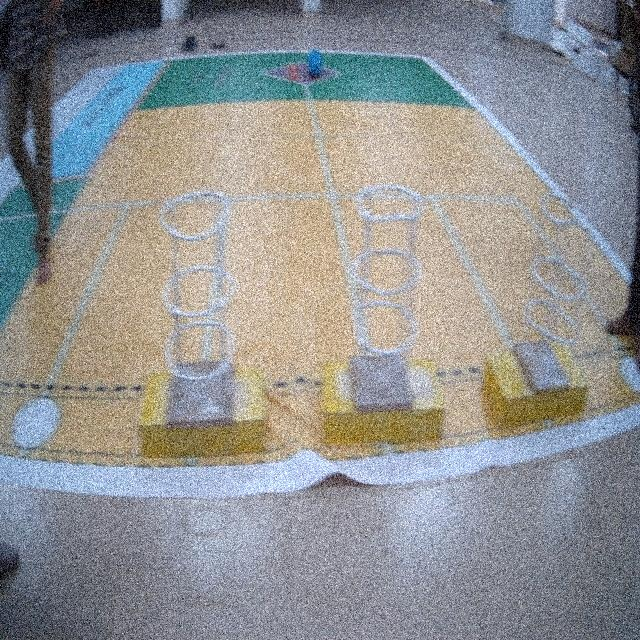silo: (150, 166, 258, 457), (342, 174, 430, 428), (511, 172, 599, 403)
